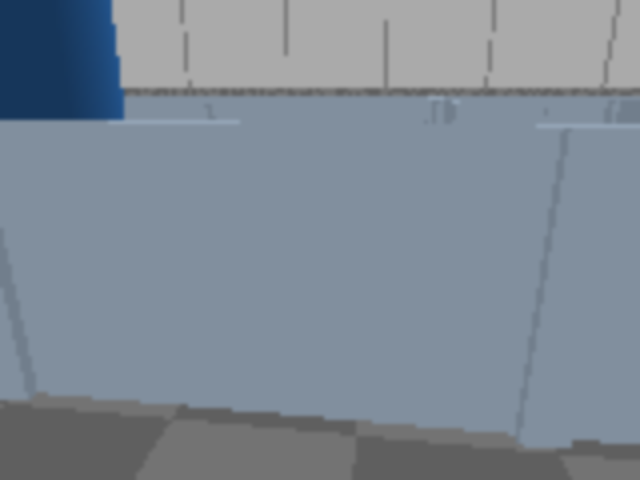person: (0, 0, 134, 308)
